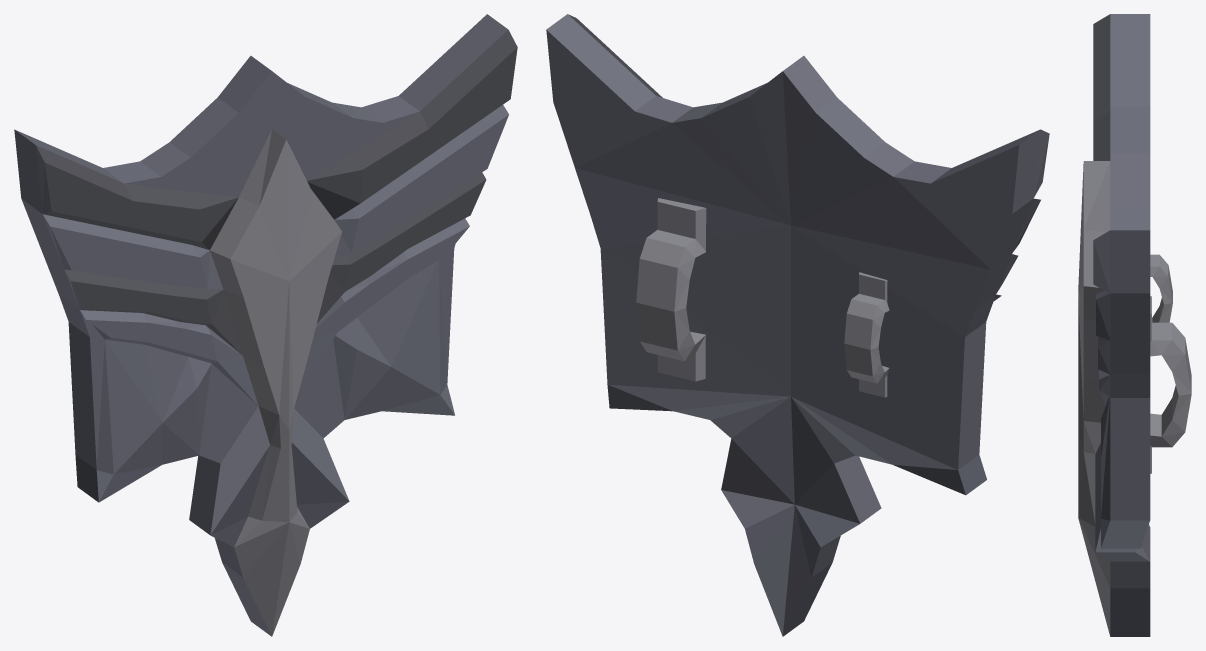
File: shield_shield_12.glb
3 views of the same model, side by side, from view 1: azimuth 30°, elevation 25°; view 2: azimuth 150°, elevation 25°; view 3: azimuth 270°, elevation 25° (orthographic). The views are drawn at different scales.
Parts seen in each view (by area): view 1: shield_12; view 2: shield_12; view 3: shield_12.
Part boxes in pixels (x1=…): shield_12: x1=14, y1=14, x2=517, y2=636; shield_12: x1=546, y1=14, x2=1049, y2=636; shield_12: x1=1078, y1=14, x2=1191, y2=636.
Bounding box in the file's own units: 68.57 × 78.41 × 15.23.
Materials: 1 (1 with a texture image).
